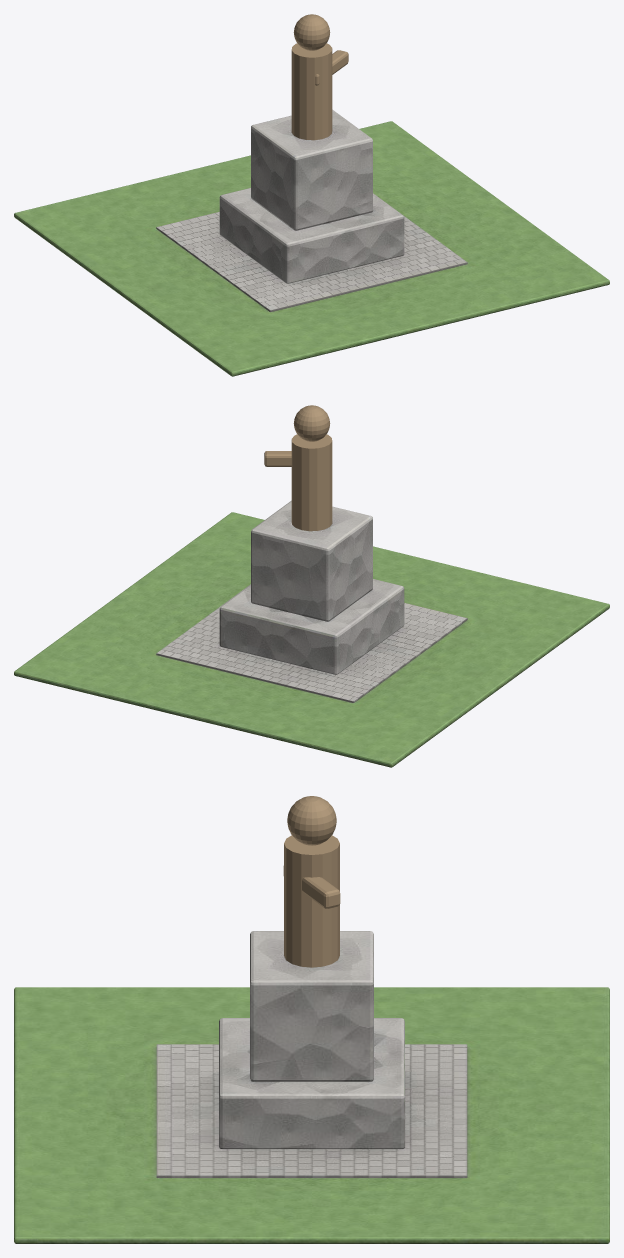
Rendered from denkmal.glb.
3 views of the same model, one above another, from view 1: azimuth 30°, elevation 25°; view 2: azimuth 150°, elevation 25°; view 3: azimuth 270°, elevation 25° (orthographic). The views are drawn at different scales.
Parts seen in each view (by area): view 1: denkmal, denkmal_details; view 2: denkmal, denkmal_details; view 3: denkmal, denkmal_details.
Boxes of the visible parts, box(x1,y1,x2,y2) form: denkmal: box(14, 109, 609, 376); denkmal_details: box(291, 14, 348, 140); denkmal: box(14, 500, 609, 767); denkmal_details: box(264, 405, 332, 531); denkmal: box(14, 931, 609, 1243); denkmal_details: box(283, 796, 340, 967).
Bounding box in the file's own units: 0.96 × 0.57 × 0.96.
2 materials, 1 textured.
